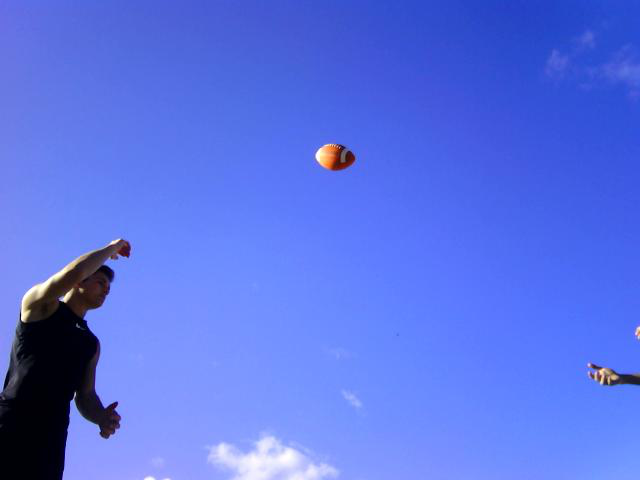football: (307, 138, 359, 176)
